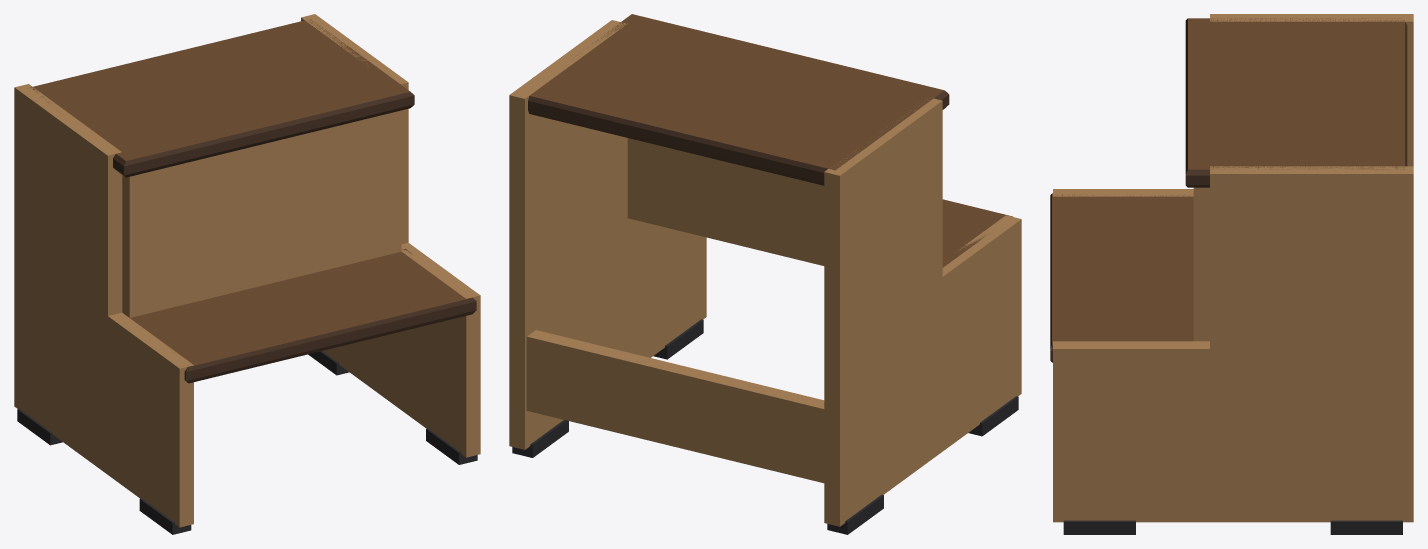
Rendered from FN_Stool_Step.glb.
The picture shows the model from 3 angles, left to right: view 1: azimuth 30°, elevation 25°; view 2: azimuth 150°, elevation 25°; view 3: azimuth 270°, elevation 25°; orthographic projection. The views are drawn at different scales.
Parts seen in each view (by area): view 1: FN_Stool_Step; view 2: FN_Stool_Step; view 3: FN_Stool_Step.
Boxes of the visible parts, left/top/right/bottom form: FN_Stool_Step: left=14, top=14, right=480, bottom=534; FN_Stool_Step: left=509, top=14, right=1021, bottom=534; FN_Stool_Step: left=1050, top=14, right=1413, bottom=534.
Size of the model in its own units: 0.426 by 0.44 by 0.403.
Materials: 1 (1 with a texture image).
